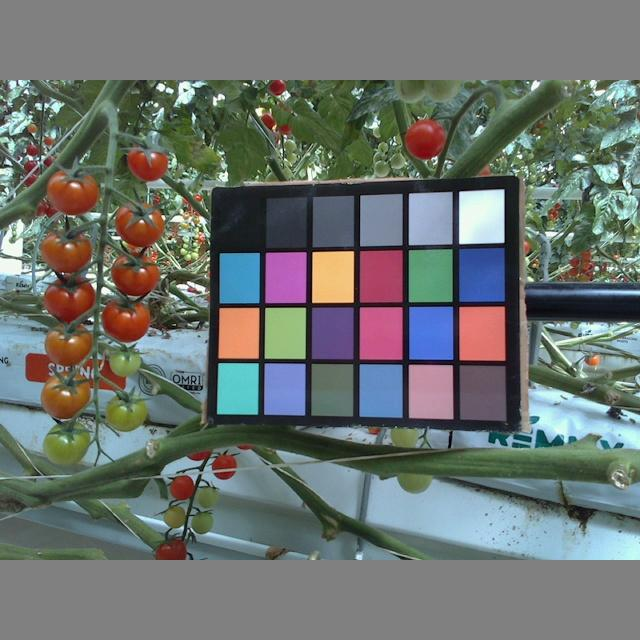green: (39, 422, 92, 466), (104, 394, 147, 433), (394, 459, 434, 495), (106, 346, 141, 377), (390, 424, 421, 455), (394, 81, 432, 105), (424, 81, 462, 103), (195, 485, 219, 509), (190, 511, 213, 534), (165, 505, 186, 529)
pink: (41, 371, 91, 419), (46, 170, 99, 215), (111, 202, 164, 247), (39, 230, 93, 272), (43, 322, 92, 366), (110, 255, 160, 296)
red: (41, 277, 94, 323), (100, 298, 149, 342), (404, 118, 446, 161), (125, 147, 170, 181), (153, 536, 187, 560), (210, 453, 237, 479), (170, 472, 194, 500)
